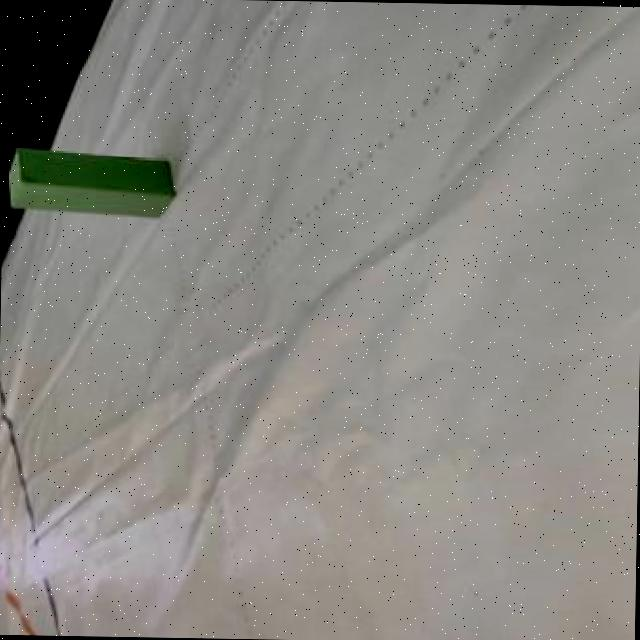greenbox: (5, 146, 176, 220)
